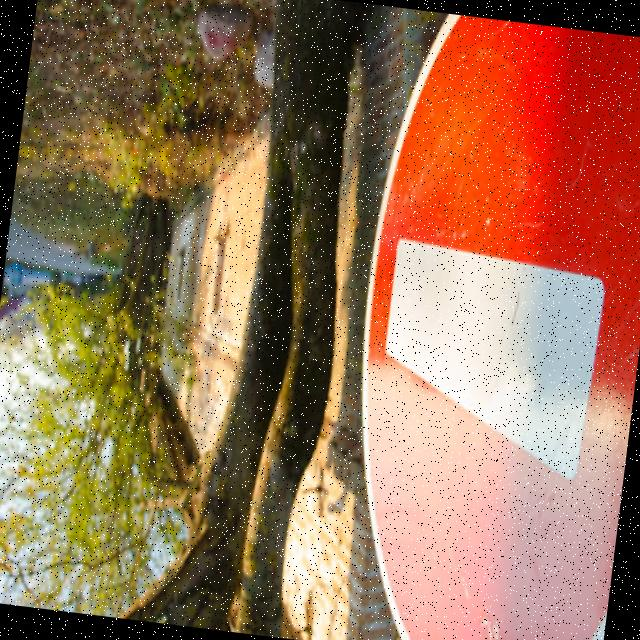do_not_enter: (306, 5, 640, 640)
